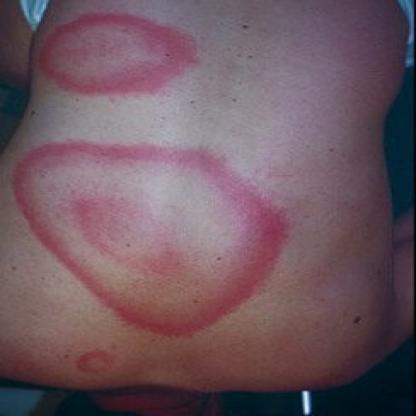Tick: (7, 141, 293, 342), (29, 11, 203, 101), (74, 350, 115, 382)
